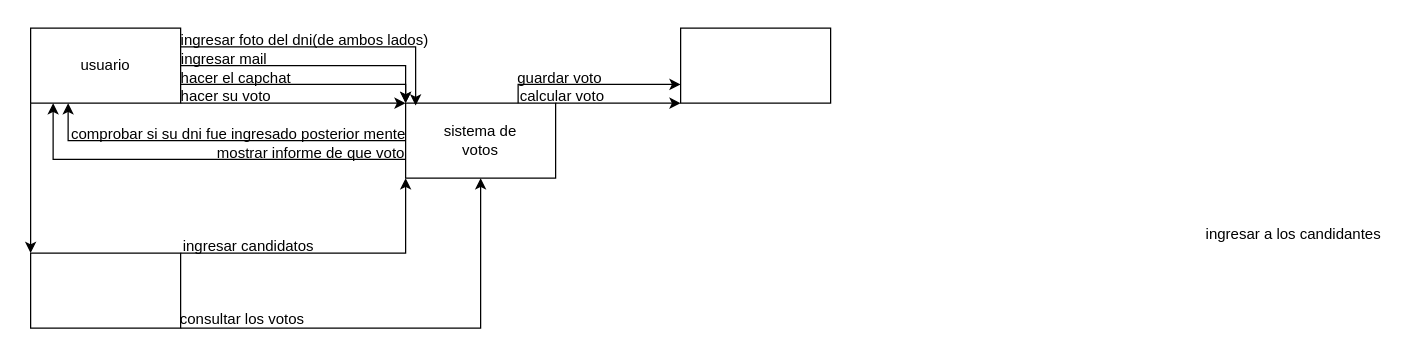
Image size: 1415x360. Some labels were removed from this diagram. Each missing label, with the centre of its shape:
"base de datos" belongs at [755,65].
"empleado/gestor" belongs at [105,290].
